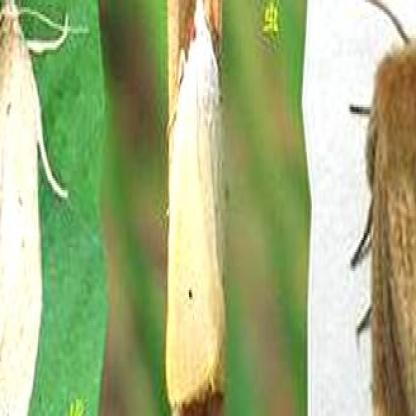stem-borer: (166, 0, 228, 416)
